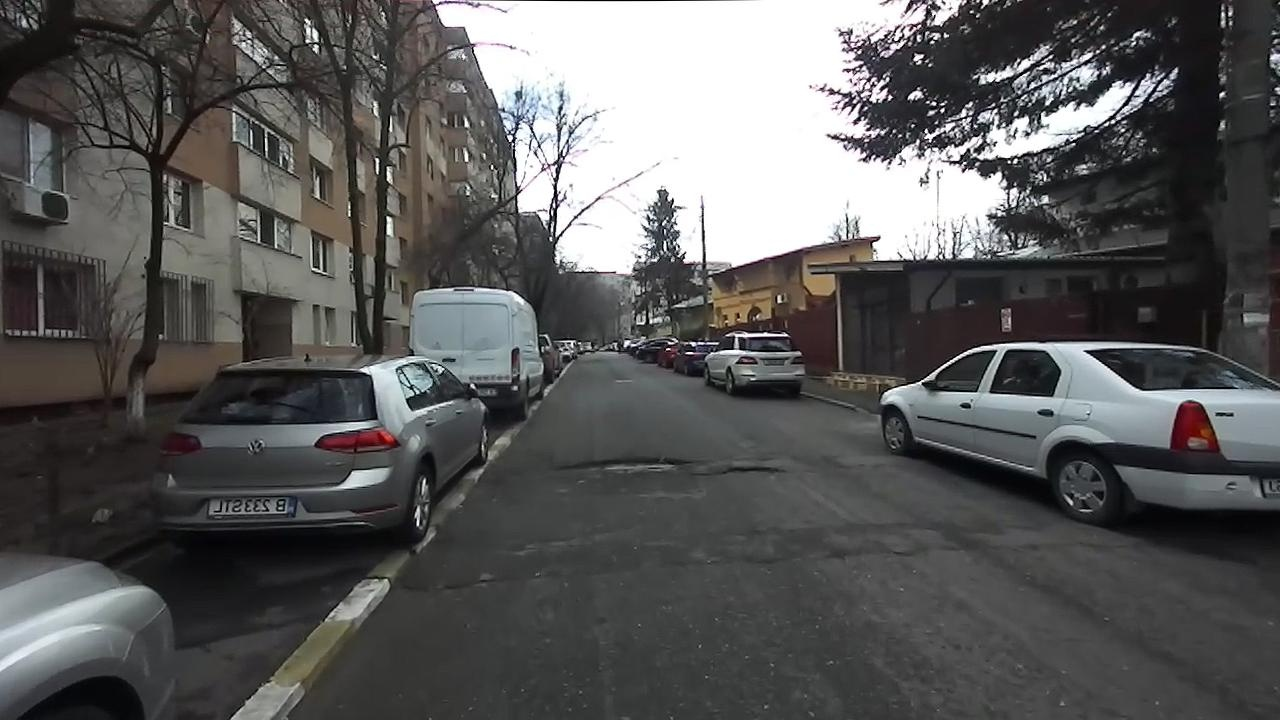pothole: (552, 452, 693, 476), (404, 566, 505, 597), (702, 460, 787, 475)
